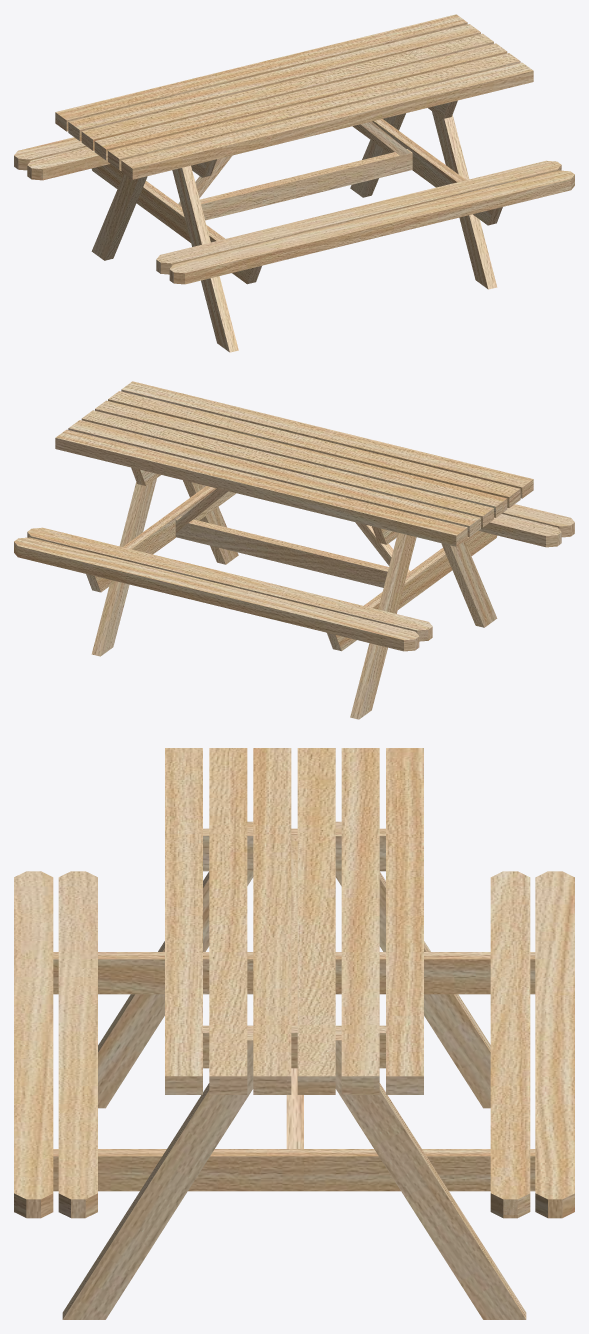
File: Picnic Table.fbx
3 views of the same model, one above another, from view 1: azimuth 30°, elevation 25°; view 2: azimuth 150°, elevation 25°; view 3: azimuth 270°, elevation 25° (orthographic). The views are drawn at different scales.
Parts seen in each view (by area): view 1: Plano; view 2: Plano; view 3: Plano.
Boxes of the visible parts, box(x1,y1,x2,y2) form: Plano: box(14, 14, 574, 352); Plano: box(14, 381, 574, 719); Plano: box(14, 748, 574, 1319).
Size of the model in its own units: 180 by 76.3 by 130.
